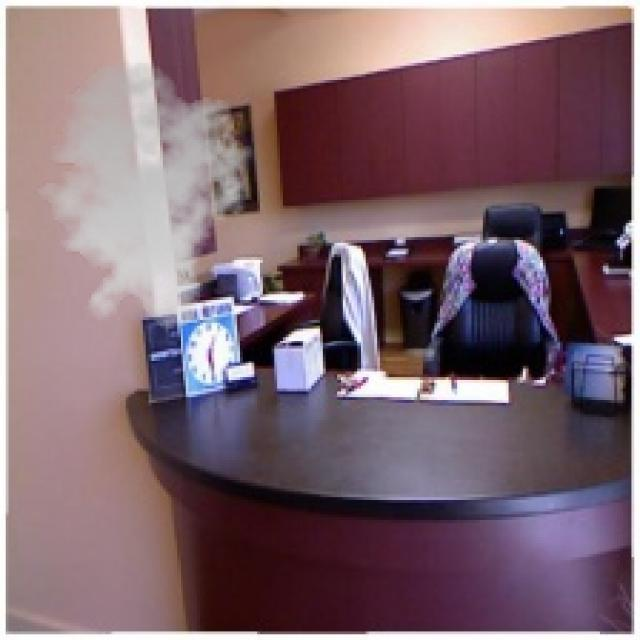Smoke: (26, 60, 260, 332)
